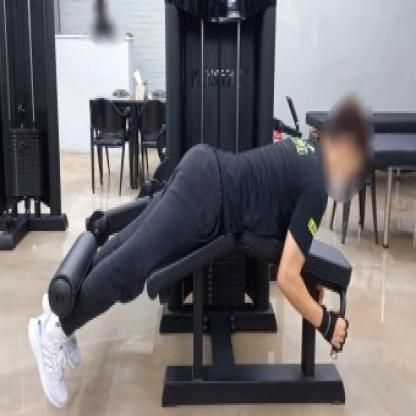reg curl machine: (27, 0, 374, 416)
